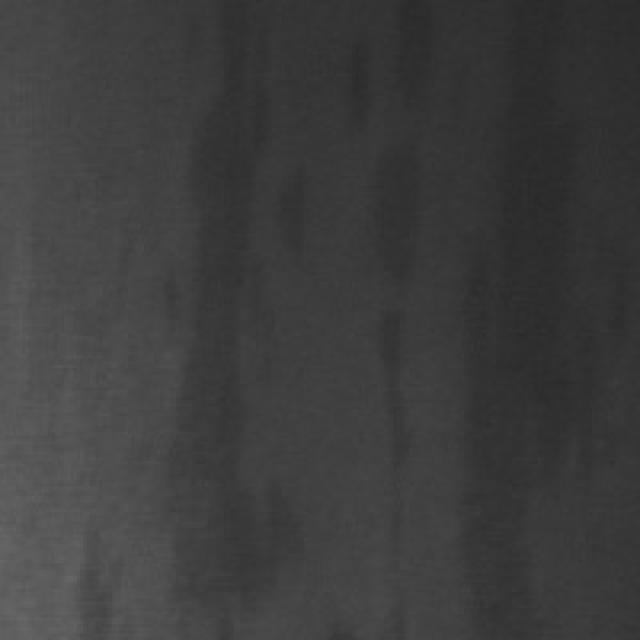inclusion: (454, 0, 605, 624), (160, 0, 297, 614), (332, 0, 419, 630), (58, 518, 115, 634)
